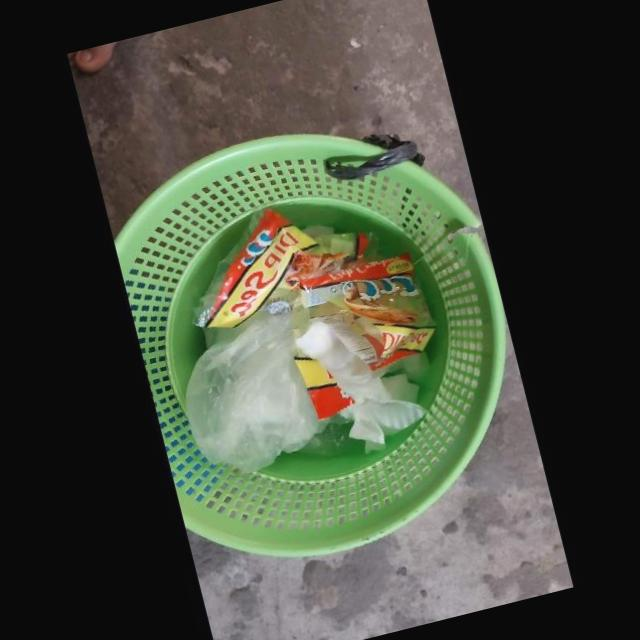bao_bi_thuc_pham: (192, 207, 356, 327), (292, 251, 436, 371), (293, 351, 355, 419)
giay: (296, 312, 426, 452)
tui_ni_long: (185, 298, 330, 471)
